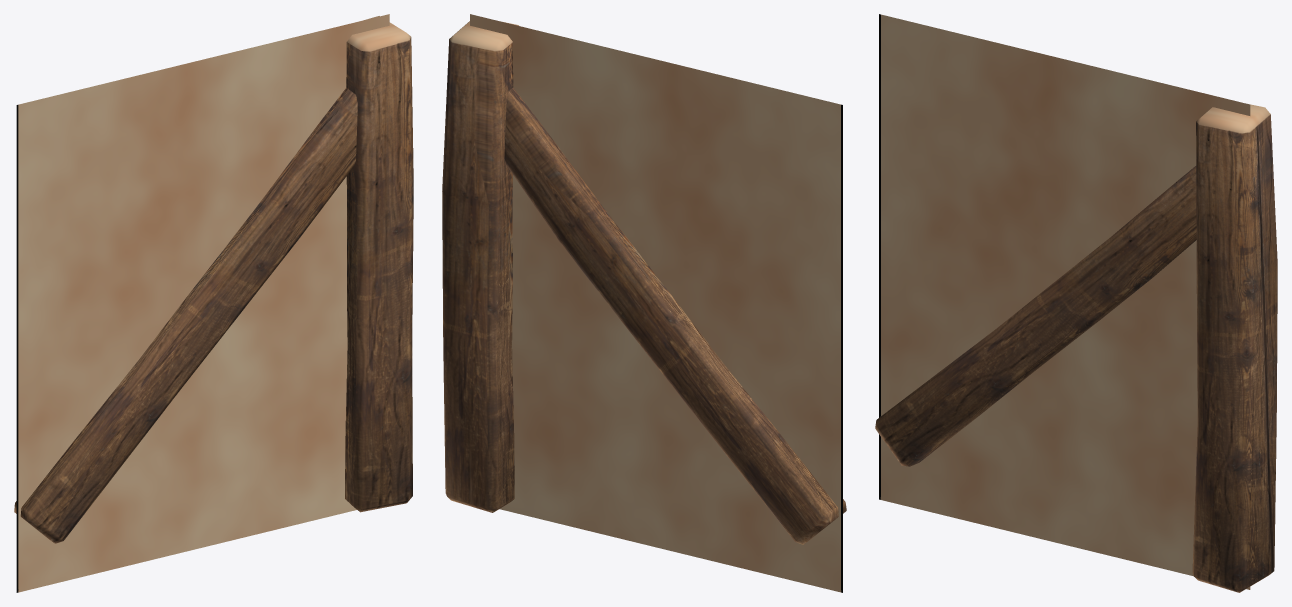
The model's file is 4 Wall wood.fbx.
3 views of the same model, side by side, from view 1: azimuth 30°, elevation 25°; view 2: azimuth 150°, elevation 25°; view 3: azimuth 330°, elevation 25° (orthographic).
Parts seen in each view (by area): view 1: 4 Wall wood; view 2: 4 Wall wood; view 3: 4 Wall wood.
Part boxes in pixels (x1=…): 4 Wall wood: x1=14, y1=14, x2=413, y2=592; 4 Wall wood: x1=442, y1=14, x2=846, y2=592; 4 Wall wood: x1=875, y1=14, x2=1277, y2=592.
Bounding box in the file's own units: 2.07 × 2.5 × 0.3286.
